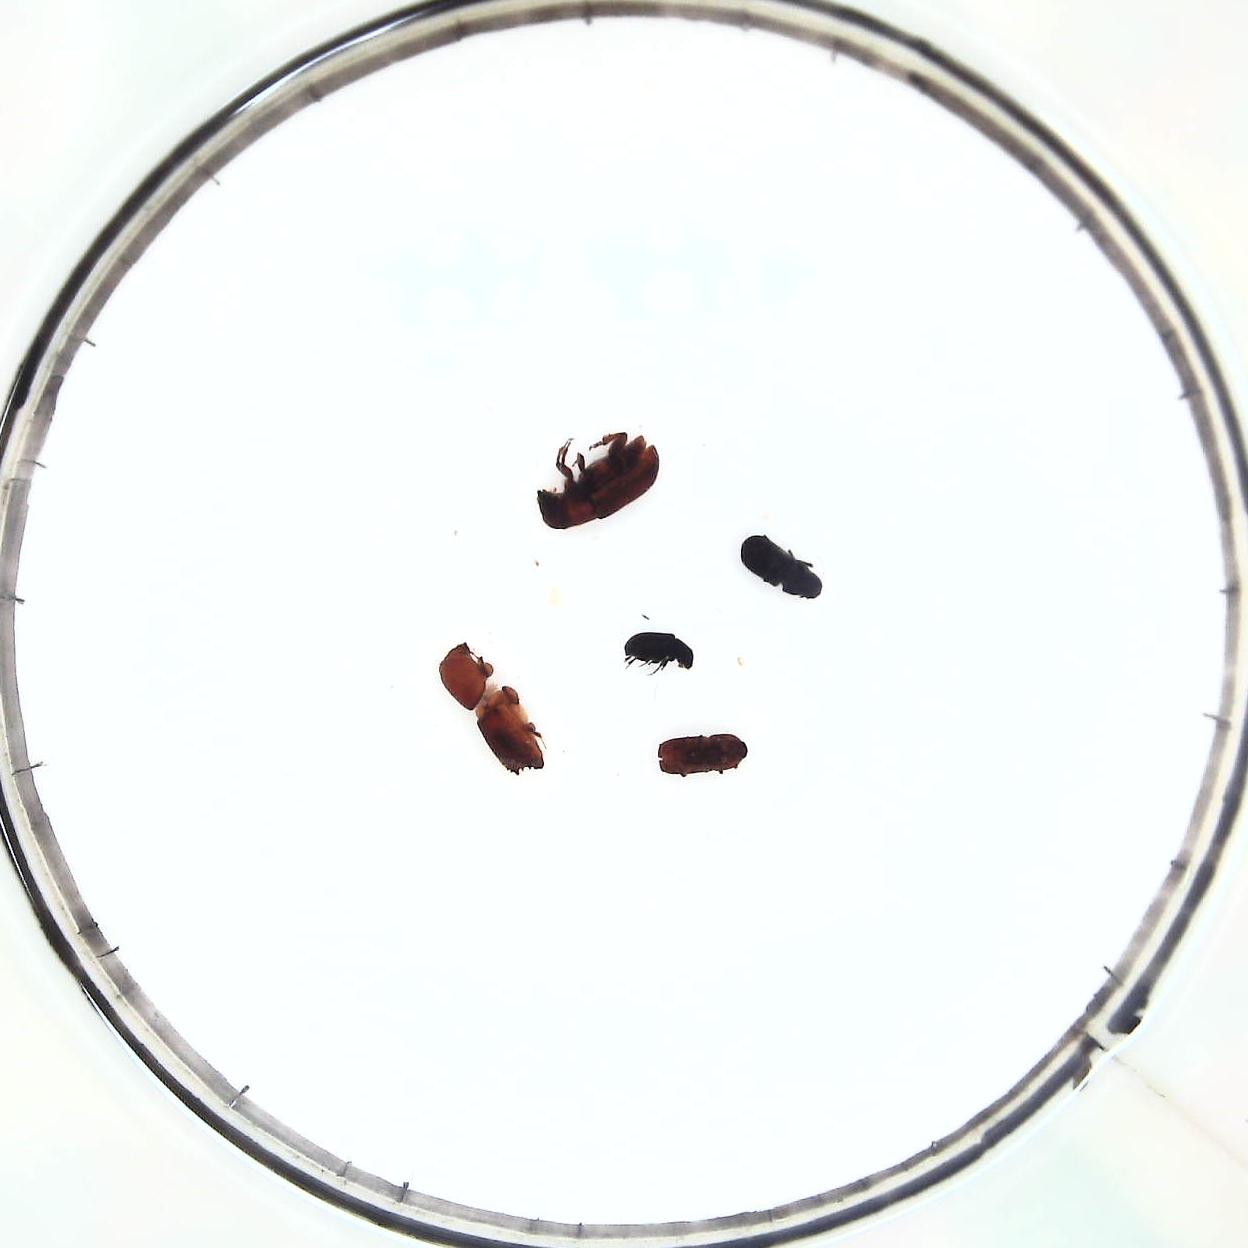Boerner: (441, 640, 547, 781)
Leconte: (535, 435, 661, 528)
Linnaeus: (654, 731, 751, 778)
armandi: (738, 533, 824, 601)
coleoptera: (623, 629, 699, 677)
